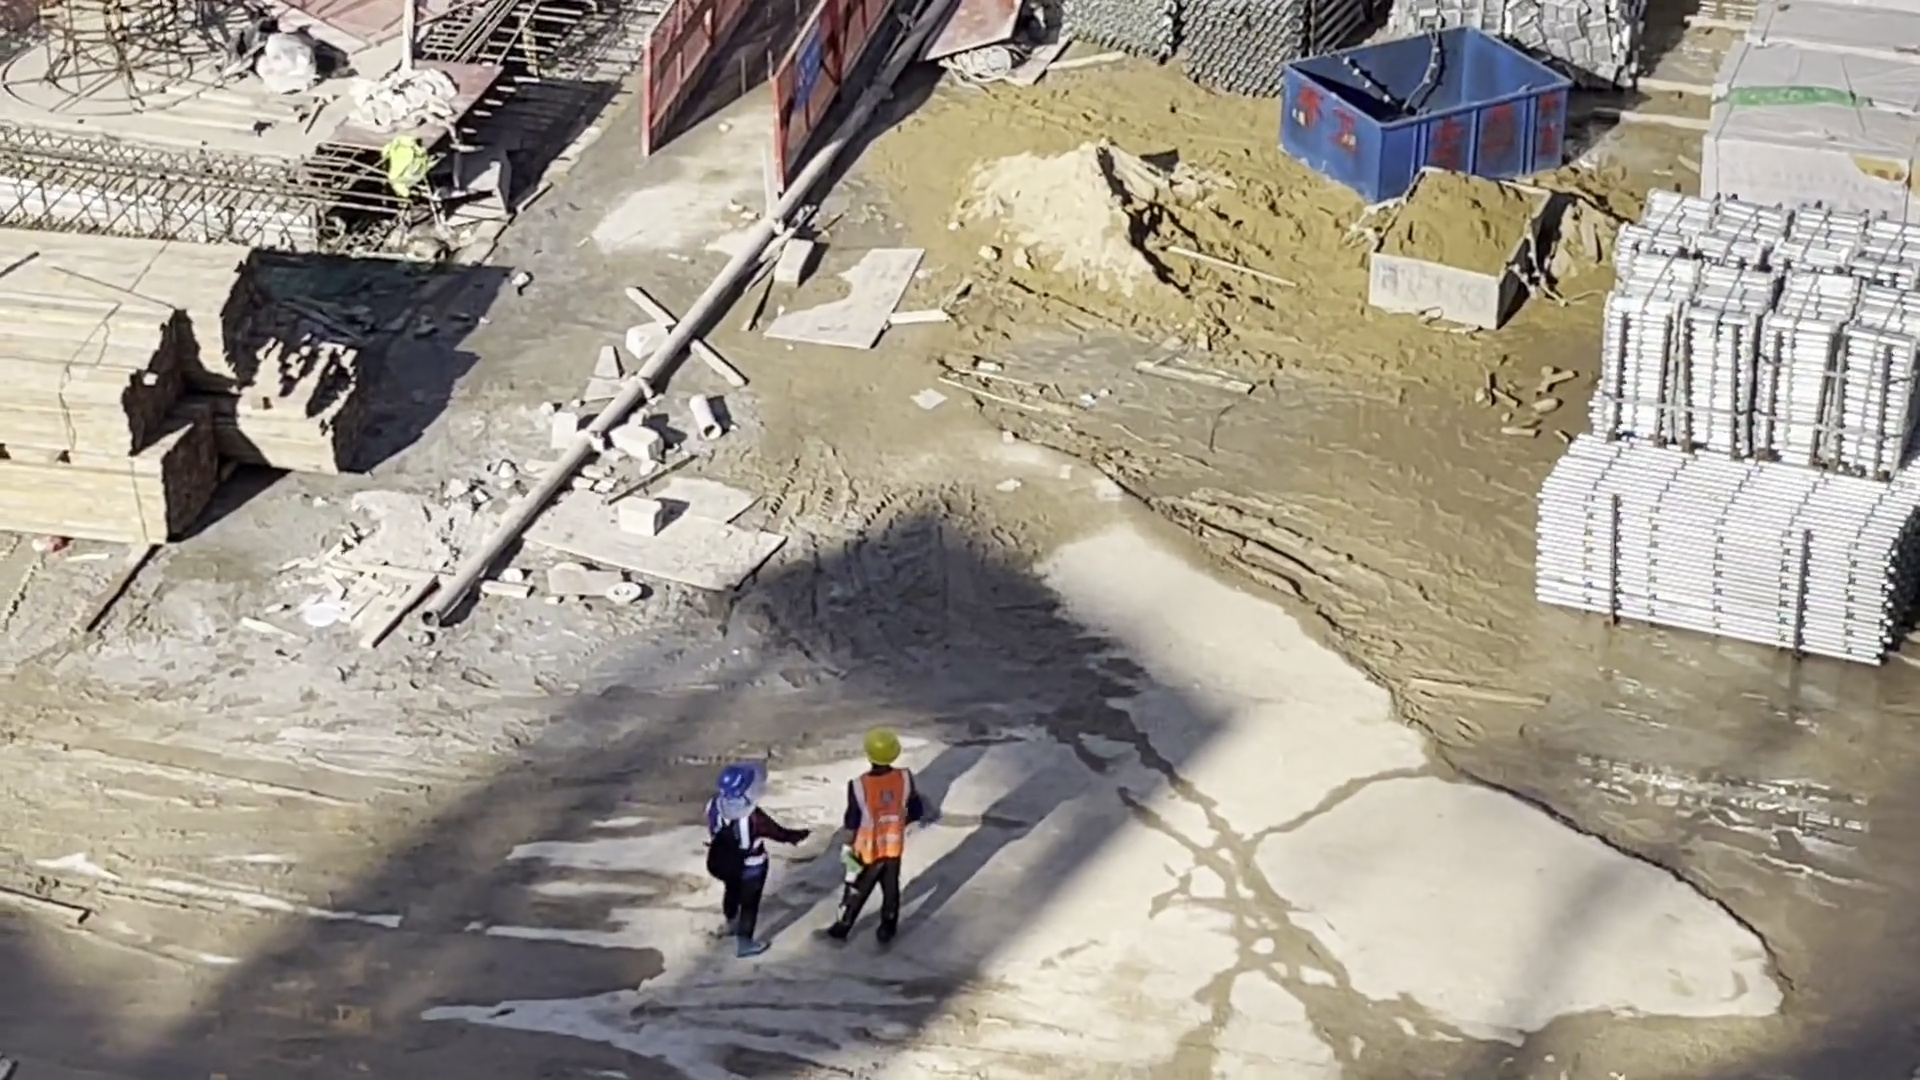fence: (650, 1, 897, 163)
helmet: (717, 765, 755, 796), (864, 732, 901, 763)
hopper: (1286, 27, 1566, 206), (1369, 169, 1555, 329)
person: (820, 737, 909, 949), (705, 766, 788, 960)
scaffold: (1613, 192, 1920, 474), (1539, 438, 1920, 660), (1059, 1, 1373, 92)
slogan: (793, 20, 819, 112)
vest: (855, 770, 908, 866), (706, 797, 762, 877)
wood: (1, 227, 262, 529)
